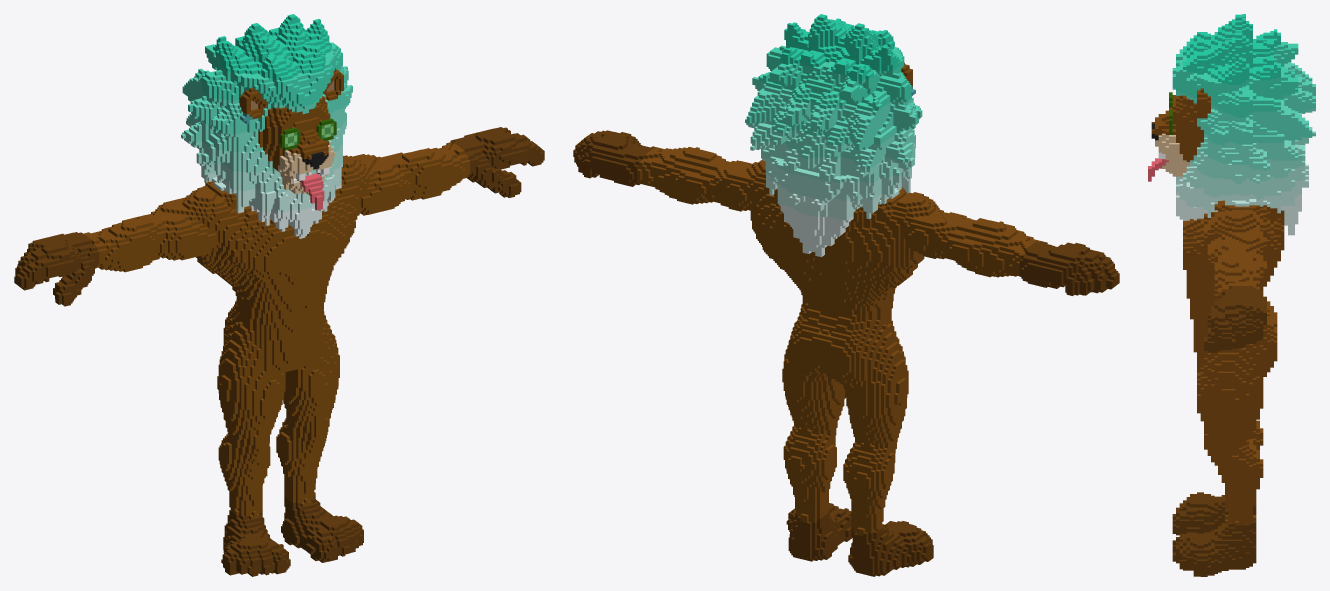
The model's file is 1020-BdiO6m9_.glb.
The picture shows the model from 3 angles, left to right: view 1: azimuth 30°, elevation 25°; view 2: azimuth 150°, elevation 25°; view 3: azimuth 270°, elevation 25°; orthographic projection. The views are drawn at different scales.
Parts seen in each view (by area): view 1: tongue_out; view 2: tongue_out; view 3: tongue_out.
Part boxes in pixels (x1,y1,x2,y2): tongue_out: (14, 14, 544, 576); tongue_out: (573, 14, 1119, 576); tongue_out: (1148, 14, 1315, 576).
Size of the model in its own units: 17.2 by 16.5 by 4.8.
Materials: 5 (5 with a texture image).
